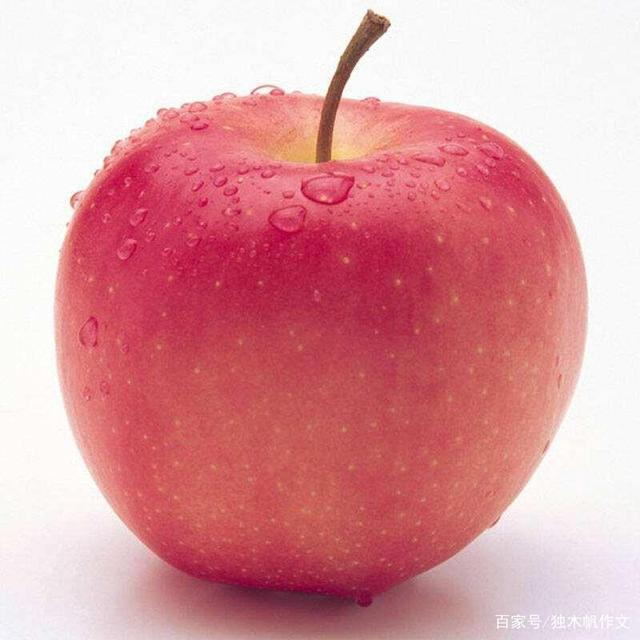apple: (47, 76, 585, 593)
